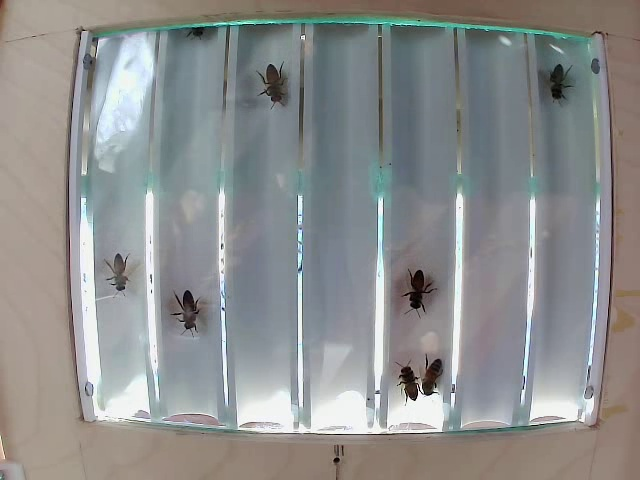bee: (255, 58, 312, 121), (165, 285, 221, 347), (401, 262, 445, 331), (389, 348, 444, 390), (548, 63, 589, 117), (107, 250, 147, 292)
